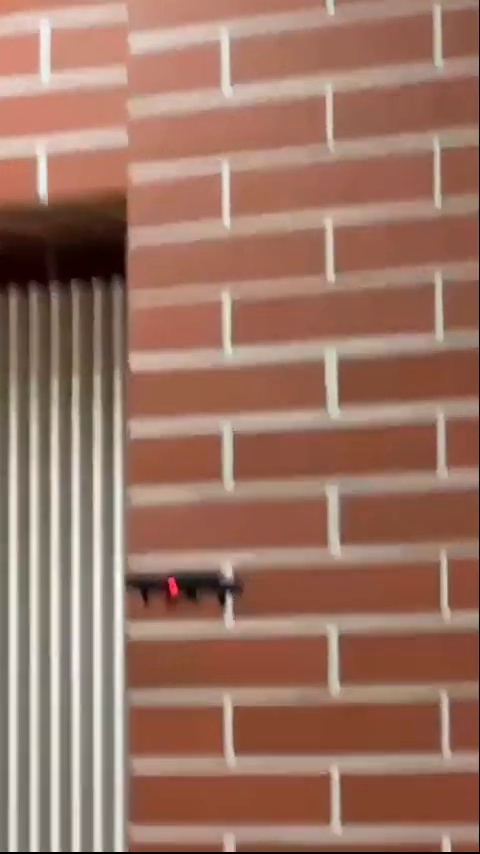drone: (124, 566, 253, 611)
